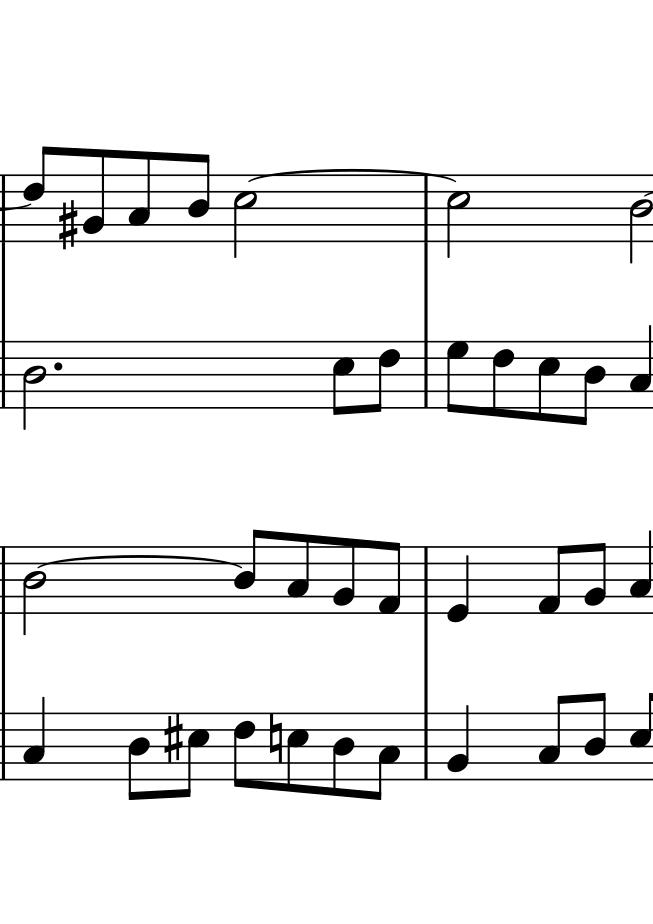2_4: (22, 338, 47, 428), (22, 544, 46, 632), (629, 178, 652, 257)
2_5: (445, 174, 471, 259), (232, 174, 258, 258)
4_0: (444, 541, 471, 627)
4_2: (445, 703, 471, 781)
4_3: (22, 697, 47, 780), (628, 328, 652, 409)
8_1: (536, 543, 570, 616), (376, 540, 402, 616)
8_2: (82, 147, 106, 242), (332, 537, 356, 616), (583, 542, 607, 615)
8_3: (536, 694, 569, 782), (371, 713, 402, 803), (126, 151, 152, 244), (285, 532, 311, 616), (285, 710, 310, 796), (628, 535, 652, 616)
8_4: (233, 528, 266, 617), (578, 341, 607, 428), (186, 152, 211, 244), (583, 690, 607, 783), (126, 711, 150, 803), (331, 711, 356, 799)
8_5: (178, 711, 209, 800), (536, 338, 561, 424), (331, 339, 355, 418)
8_6: (22, 142, 54, 246), (370, 340, 402, 413), (491, 339, 515, 420), (232, 710, 256, 790)
8_7: (445, 339, 469, 415)
Natural: (267, 711, 283, 766)
Sharp: (162, 712, 184, 765), (57, 199, 78, 252)
Single_barline: (418, 341, 434, 407), (418, 548, 434, 614), (418, 714, 434, 779), (419, 188, 434, 242), (1, 546, 12, 615), (1, 340, 12, 408), (1, 713, 12, 780), (1, 175, 9, 240)
Slur: (248, 167, 459, 181)
dot: (50, 359, 64, 373)
